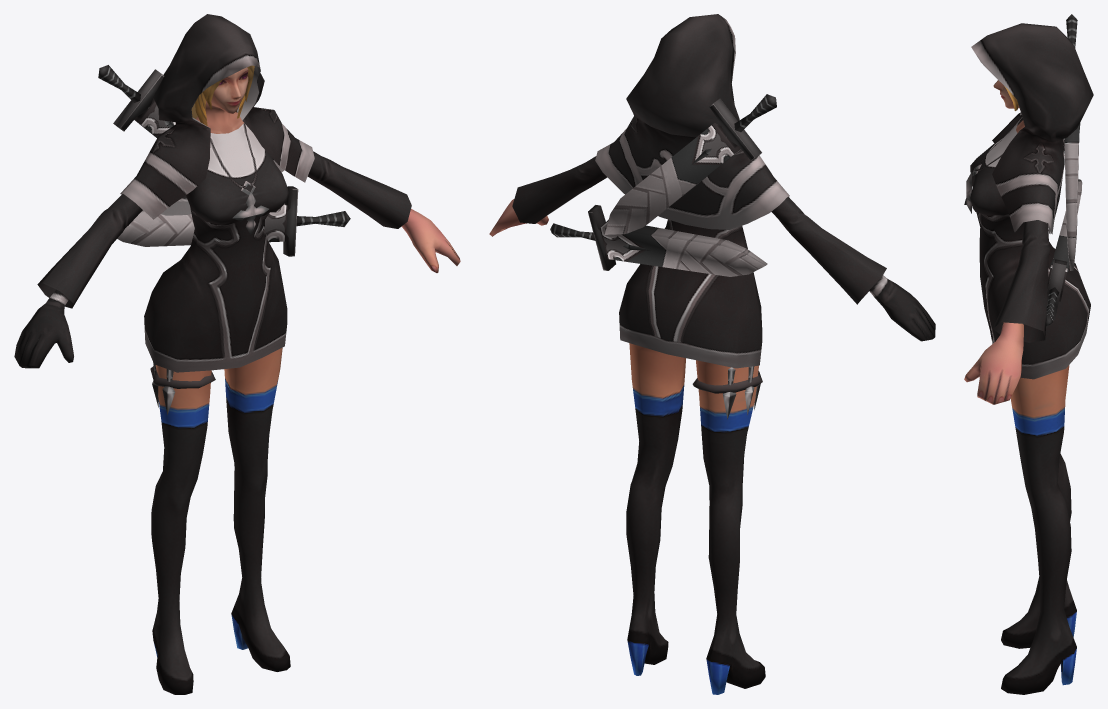
3 renders of one model, left to right at view 1: azimuth 30°, elevation 25°; view 2: azimuth 150°, elevation 25°; view 3: azimuth 270°, elevation 25°, orthographic.
Visible parts, largest first — view 1: Group1; view 2: Group1; view 3: Group1.
Boxes of the visible parts, left/top/right/bottom form: Group1: left=14, top=14, right=460, bottom=694; Group1: left=489, top=14, right=935, bottom=694; Group1: left=964, top=14, right=1093, bottom=694.
Size of the model in its own units: 1.3 by 1.83 by 0.3363.
Materials: 1 (1 with a texture image).
